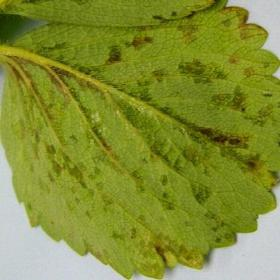Angular Leafspot: (0, 0, 279, 279)
